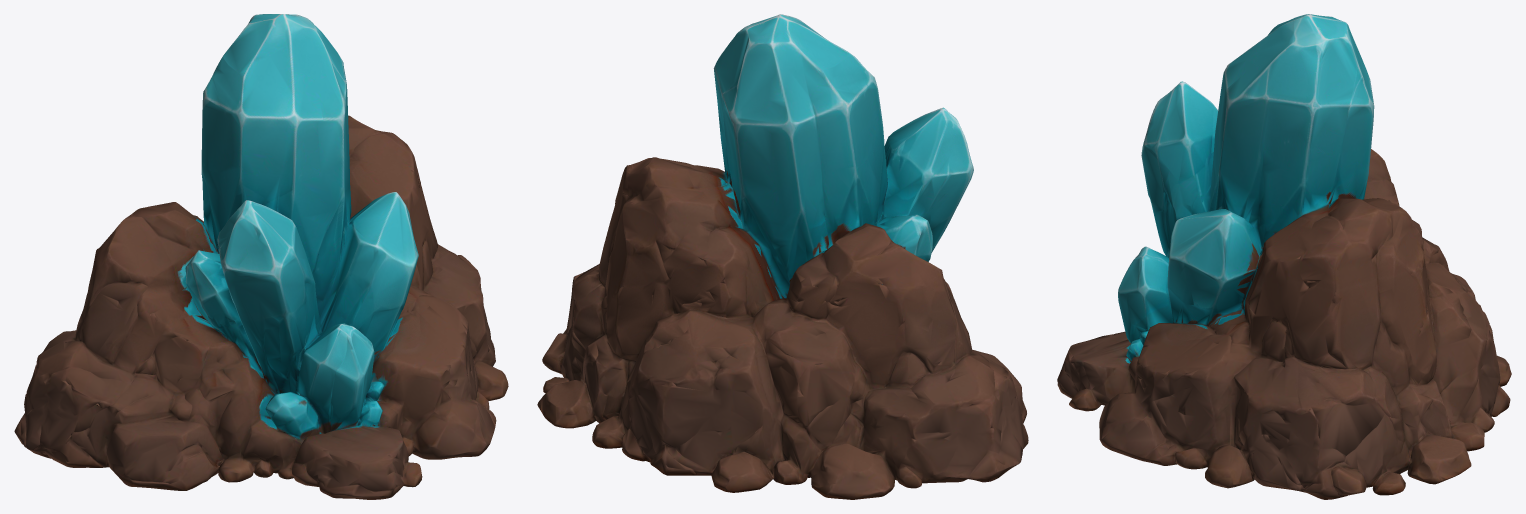
File: grupo_de_cristales_azules.glb
The picture shows the model from 3 angles, left to right: view 1: azimuth 30°, elevation 25°; view 2: azimuth 150°, elevation 25°; view 3: azimuth 270°, elevation 25°; orthographic projection.
Visible parts, largest first — view 1: grupo_de_cristales_azules; view 2: grupo_de_cristales_azules; view 3: grupo_de_cristales_azules.
Part boxes in pixels (x1,y1,x2,y2): grupo_de_cristales_azules: (14,14,508,499); grupo_de_cristales_azules: (537,14,1028,499); grupo_de_cristales_azules: (1057,14,1511,499).
Size of what is drawn, in the model's own units: 1.48 by 1.2 by 1.27.
1 material, 1 textured.
